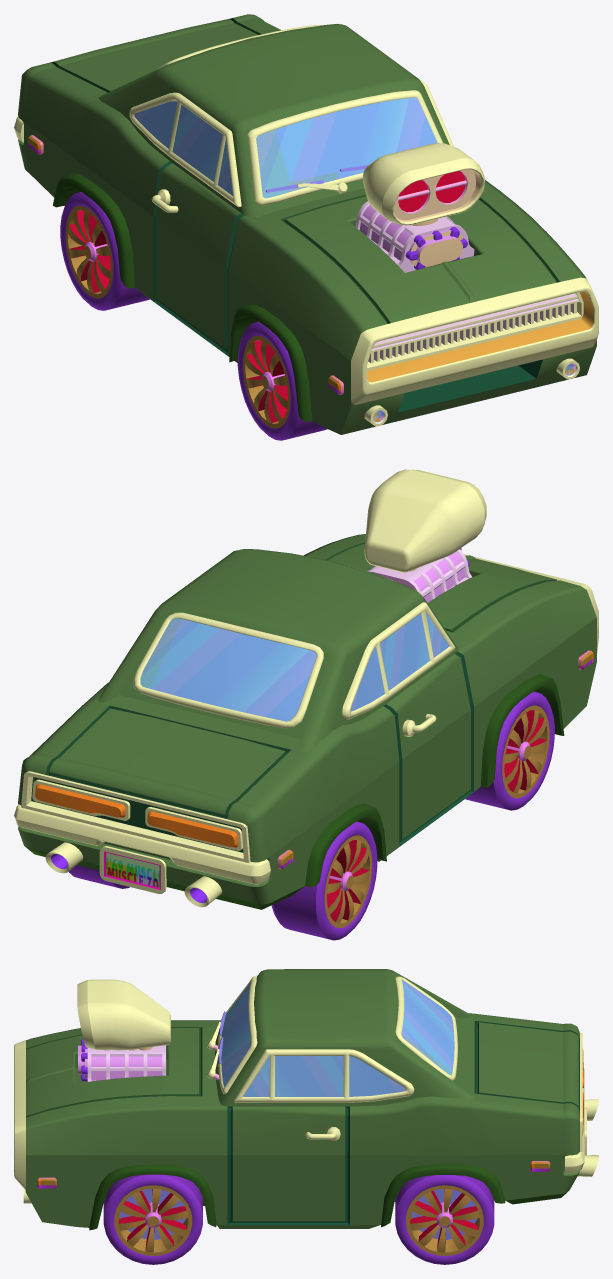
Rendered from MuscleCar1970_GRP.fbx.
3 renders of one model, top to bottom at view 1: azimuth 30°, elevation 25°; view 2: azimuth 150°, elevation 25°; view 3: azimuth 270°, elevation 25°, orthographic. The views are drawn at different scales.
Parts seen in each view (by area): view 1: MuscleCar1970_mesh, MuscleCar1970_Wheel_BR_mesh, MuscleCar1970_Wheel_FR_mesh; view 2: MuscleCar1970_mesh, MuscleCar1970_Wheel_BR_mesh, MuscleCar1970_Wheel_FR_mesh; view 3: MuscleCar1970_mesh, MuscleCar1970_Wheel_FL_mesh, MuscleCar1970_Wheel_BL_mesh.
Boxes of the visible parts, x1,y1,x2,y2 form: MuscleCar1970_mesh: (14, 14, 598, 434); MuscleCar1970_Wheel_BR_mesh: (60, 192, 149, 310); MuscleCar1970_Wheel_FR_mesh: (237, 321, 327, 440); MuscleCar1970_mesh: (14, 469, 598, 909); MuscleCar1970_Wheel_BR_mesh: (271, 821, 377, 940); MuscleCar1970_Wheel_FR_mesh: (465, 691, 554, 810); MuscleCar1970_mesh: (14, 969, 598, 1230); MuscleCar1970_Wheel_FL_mesh: (103, 1174, 202, 1264); MuscleCar1970_Wheel_BL_mesh: (395, 1175, 494, 1264).
Size of the model in its own units: 1.36 by 1.29 by 3.09.
